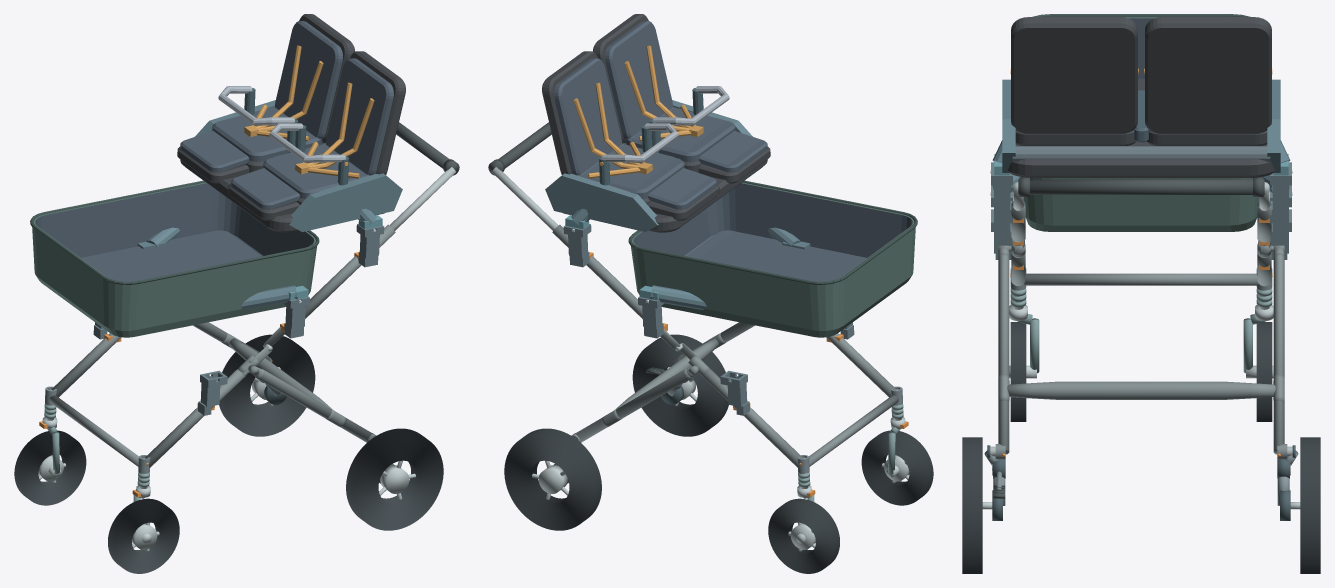
File: D27_w650_state1_wheel_M.glb
3 renders of one model, left to right at view 1: azimuth 30°, elevation 25°; view 2: azimuth 150°, elevation 25°; view 3: azimuth 270°, elevation 25°, orthographic. The views are drawn at different scales.
Parts seen in each view (by area): view 1: D27_Upper, D27_Lower, RL_tire.008, RR_tire.008, FL_tire.008, FR_tire.008, D27_Lower_Mount_M, V46_rear_leg_-1.009, main_lower_-1.009, front_fixed_round_tube.008, main_upper_-1.009, main_lower_1.009 (+7 smaller); view 2: D27_Upper, D27_Lower, RR_tire.008, RL_tire.008, FR_tire.008, FL_tire.008, D27_Lower_Mount_M, V46_rear_leg_1.009, main_lower_1.009, front_fixed_round_tube.008, main_upper_1.009, main_lower_-1.009 (+7 smaller); view 3: D27_Upper, D27_Lower, V46_rearbar.009, round_handle.008, front_fixed_round_tube.008, RL_tire.008, RR_tire.008, V46_rear_leg_1.009, V46_rear_leg_-1.009, FL_tire.008, FR_tire.008, Universal_Cabin_Receiver_H_1 (+8 smaller).
Boxes of the visible parts, bbox=[...] form: D27_Upper: bbox=[177, 14, 405, 232]; D27_Lower: bbox=[30, 180, 319, 337]; RL_tire.008: bbox=[346, 428, 443, 530]; RR_tire.008: bbox=[219, 334, 315, 436]; FL_tire.008: bbox=[108, 498, 179, 573]; FR_tire.008: bbox=[14, 430, 86, 505]; D27_Lower_Mount_M: bbox=[137, 227, 308, 309]; V46_rear_leg_-1.009: bbox=[256, 369, 372, 442]; main_lower_-1.009: bbox=[145, 369, 248, 467]; front_fixed_round_tube.008: bbox=[49, 395, 138, 466]; main_upper_-1.009: bbox=[284, 224, 395, 324]; main_lower_1.009: bbox=[51, 333, 121, 397]; D27_Upper: bbox=[542, 14, 770, 232]; D27_Lower: bbox=[628, 180, 917, 337]; RR_tire.008: bbox=[504, 428, 601, 530]; RL_tire.008: bbox=[632, 334, 728, 436]; FR_tire.008: bbox=[768, 498, 839, 573]; FL_tire.008: bbox=[861, 430, 933, 505]; D27_Lower_Mount_M: bbox=[639, 227, 810, 309]; V46_rear_leg_1.009: bbox=[575, 369, 691, 442]; main_lower_1.009: bbox=[699, 369, 802, 467]; front_fixed_round_tube.008: bbox=[809, 395, 898, 466]; main_upper_1.009: bbox=[552, 224, 663, 324]; main_lower_-1.009: bbox=[826, 333, 896, 397]; D27_Upper: bbox=[1002, 17, 1280, 177]; D27_Lower: bbox=[1020, 14, 1262, 231]; V46_rearbar.009: bbox=[1007, 381, 1275, 399]; round_handle.008: bbox=[1018, 179, 1264, 194]; front_fixed_round_tube.008: bbox=[1024, 273, 1258, 285]; RL_tire.008: bbox=[962, 437, 982, 573]; RR_tire.008: bbox=[1300, 437, 1320, 573]; V46_rear_leg_1.009: bbox=[1273, 253, 1284, 454]; V46_rear_leg_-1.009: bbox=[998, 253, 1009, 454]; FL_tire.008: bbox=[1010, 322, 1026, 421]; FR_tire.008: bbox=[1256, 322, 1272, 421]; Universal_Cabin_Receiver_H_1: bbox=[1270, 162, 1291, 223].
Size of the model in its own units: 1.16 by 1.37 by 0.7871.
